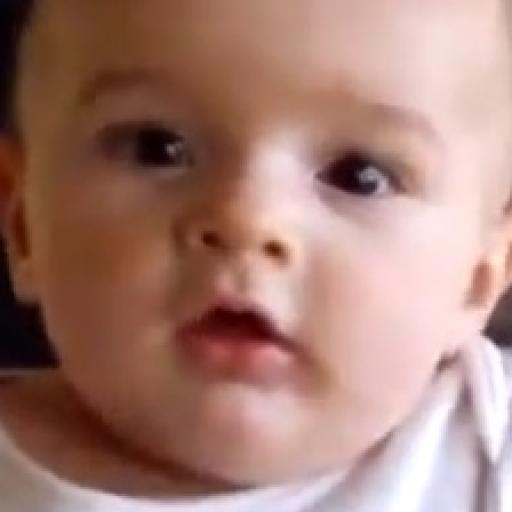Autism: (23, 0, 512, 512)
